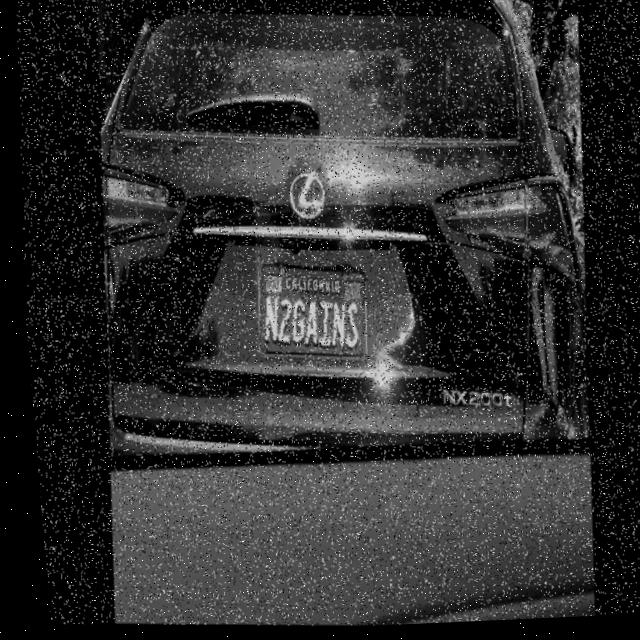LicensePlate: (248, 263, 366, 360)
